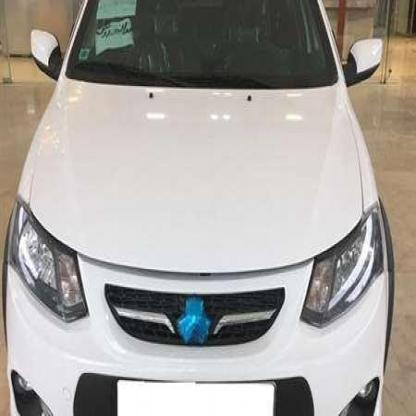Car: (0, 0, 389, 416)
